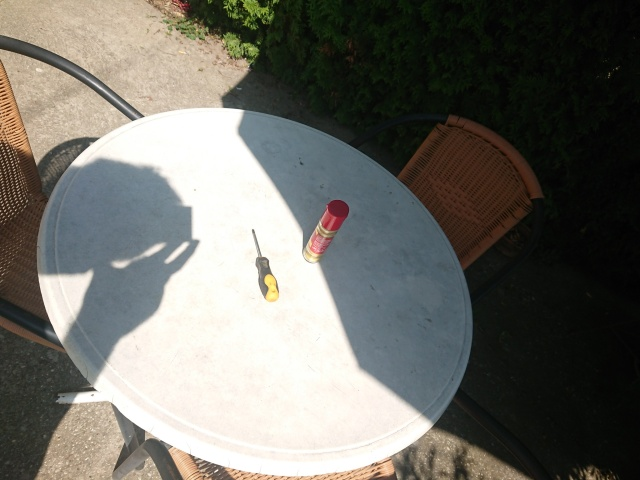Kotanyi Curry Spices Mix 70g: (301, 198, 351, 265)
